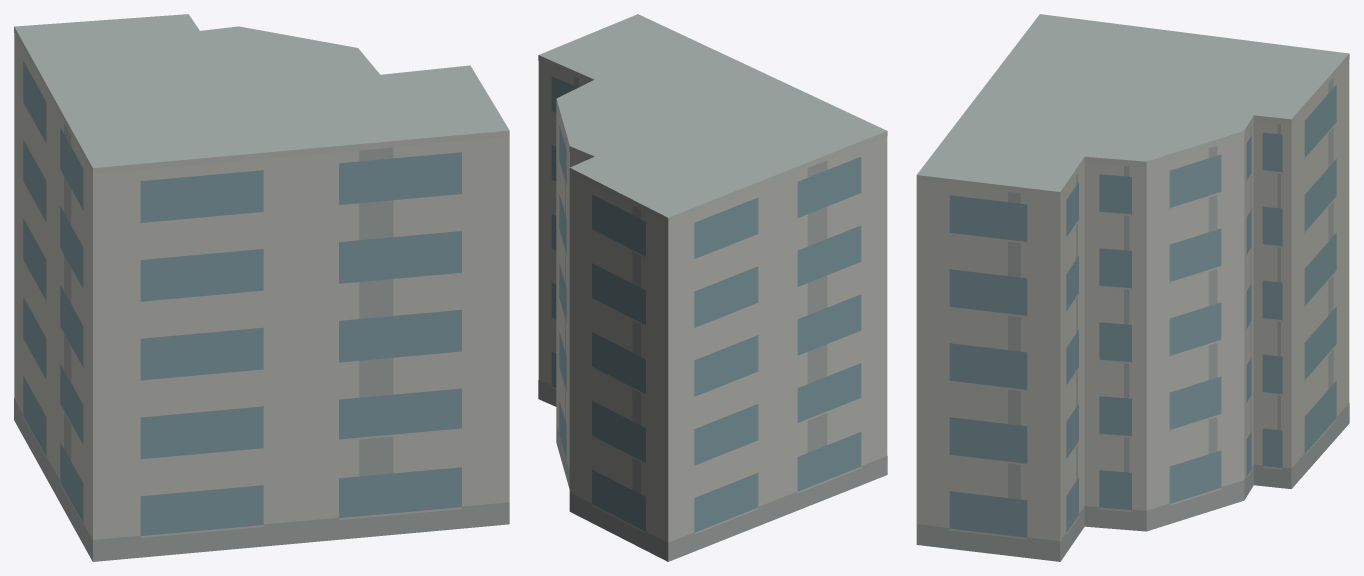
Rendered from survey-upis-32883512.glb.
3 views of the same model, side by side, from view 1: azimuth 30°, elevation 25°; view 2: azimuth 150°, elevation 25°; view 3: azimuth 270°, elevation 25° (orthographic). The views are drawn at different scales.
Visible parts, largest first — view 1: survey-upis-32883512.tmp; view 2: survey-upis-32883512.tmp; view 3: survey-upis-32883512.tmp.
Part boxes in pixels (x1=…): survey-upis-32883512.tmp: x1=14, y1=14, x2=509, y2=561; survey-upis-32883512.tmp: x1=538, y1=14, x2=887, y2=561; survey-upis-32883512.tmp: x1=916, y1=14, x2=1349, y2=561.
Bounding box in the file's own units: 15.39 × 14.9 × 15.82.
